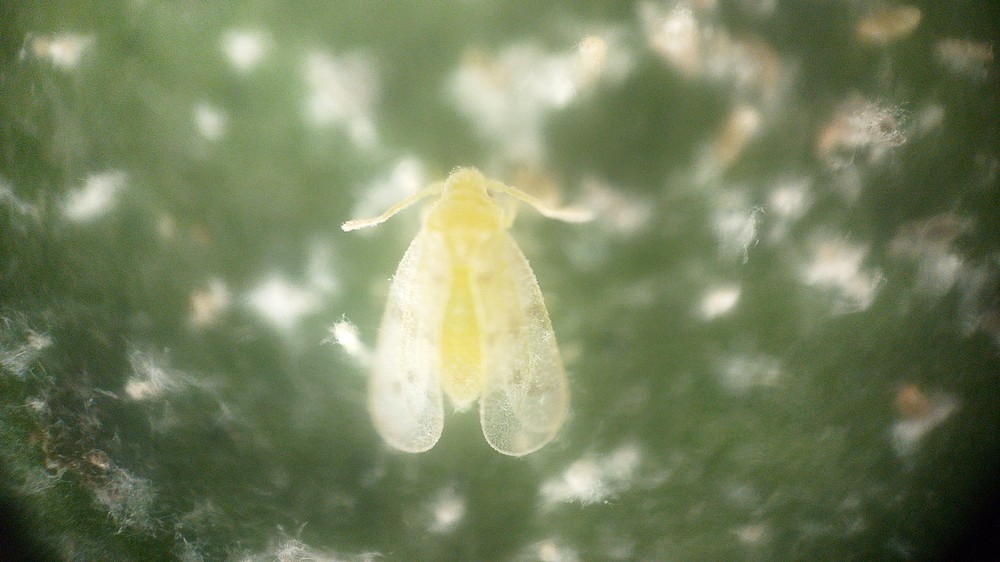Mosca Blanca: (343, 152, 628, 478)
